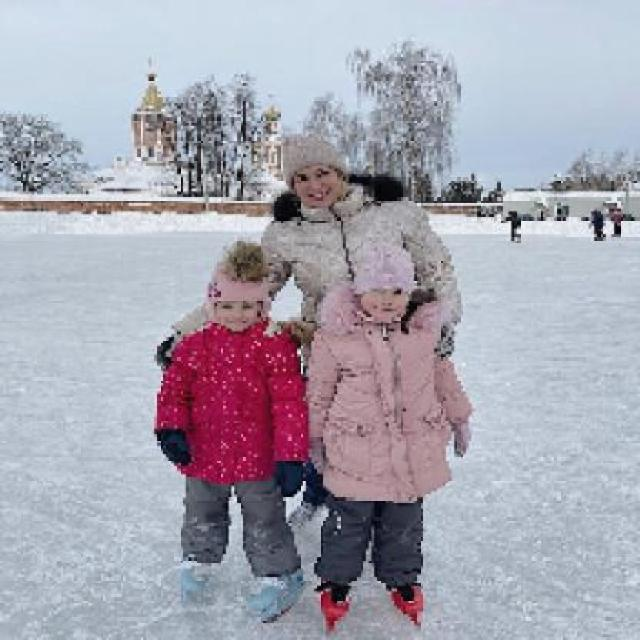child: (306, 239, 474, 632), (150, 237, 307, 623)
